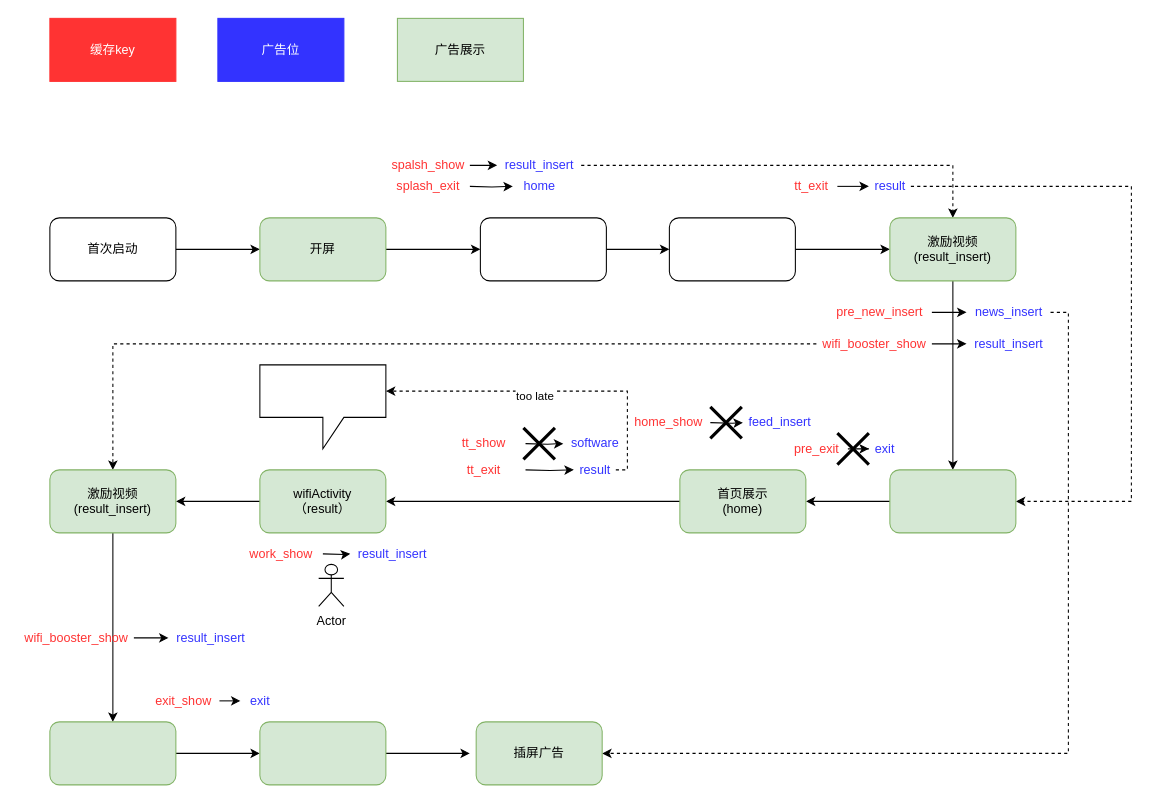
This 1158x803 diagram has some shape labels left out. Each missing label, with the centre of its shape:
No cache: (x=322, y=406)
WIFI Booster: (x=731, y=249)
壁纸: (x=542, y=249)
结果页 (result): (x=112, y=753)
结果页展示 (result): (x=952, y=501)
首页 (home): (x=322, y=753)
